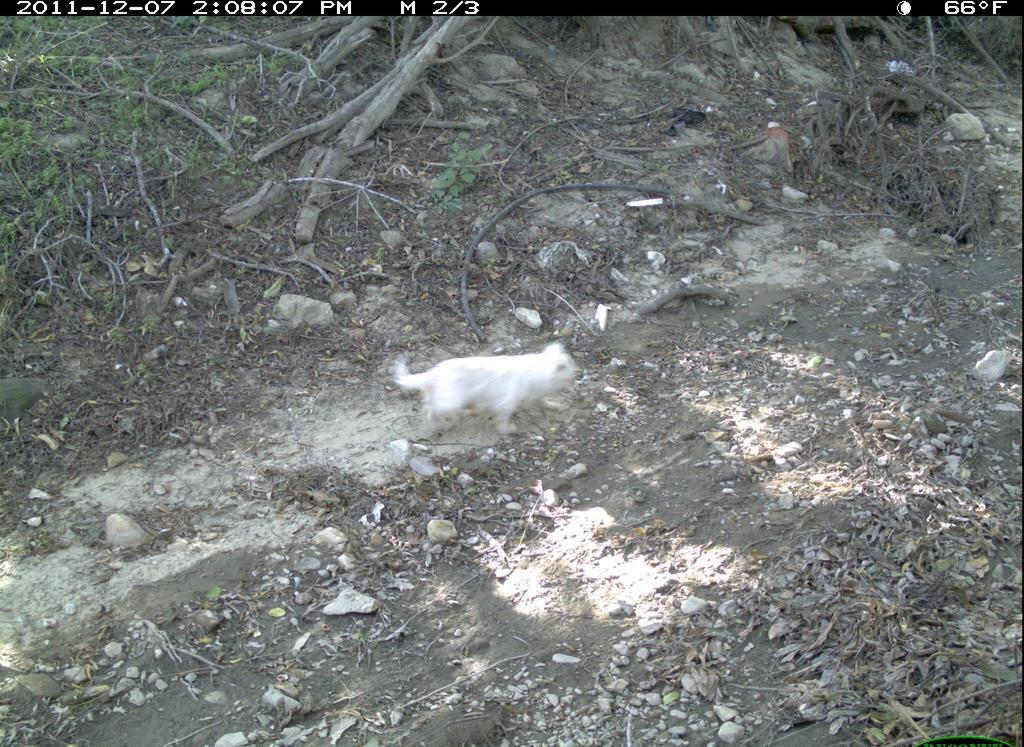dog: (387, 338, 591, 449)
